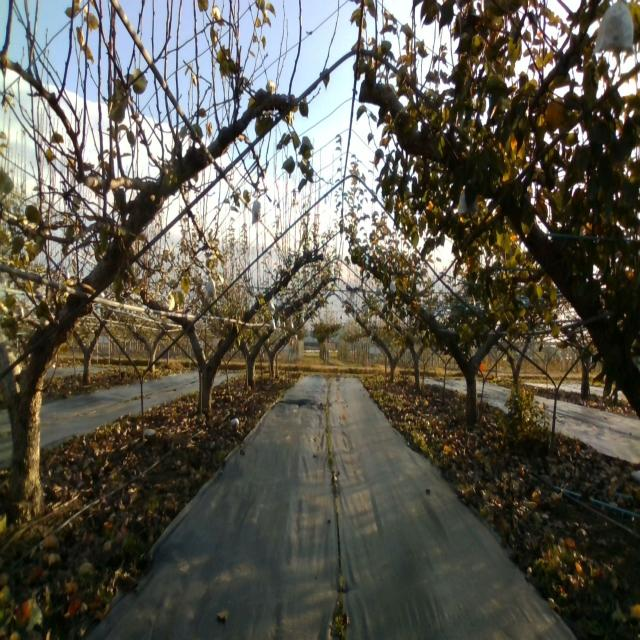pearbags: (591, 0, 635, 56), (204, 271, 218, 300)
